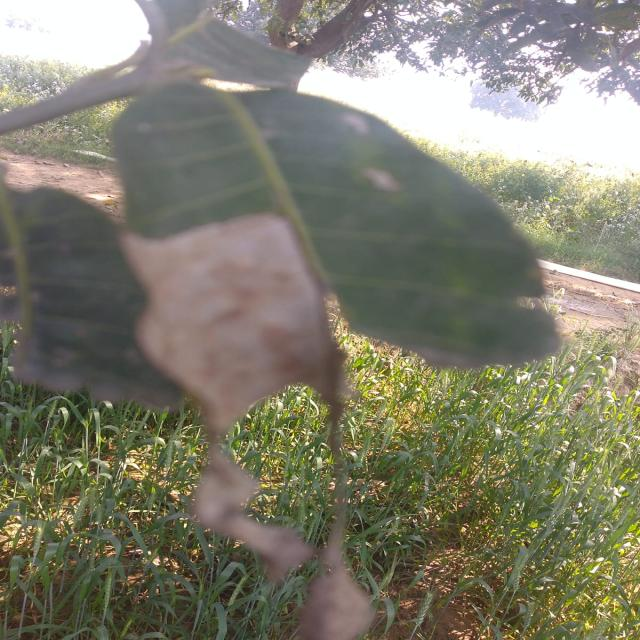Bacterial Cancer: (135, 253, 341, 368)
